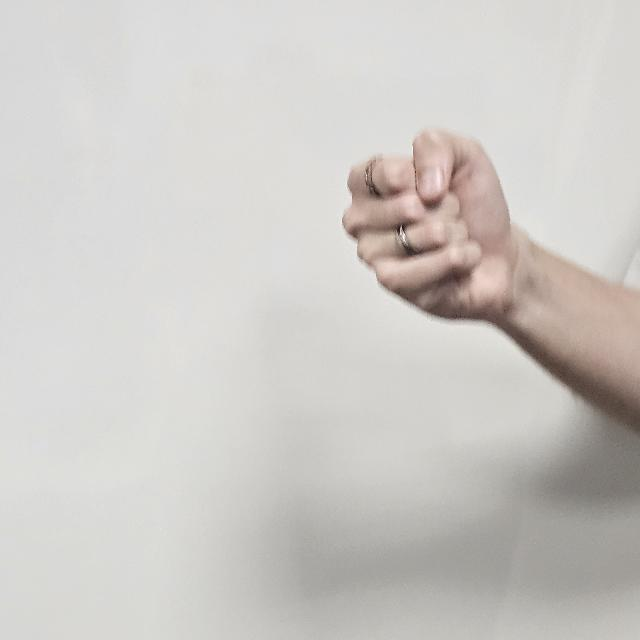Quadro: (340, 132, 522, 338)
